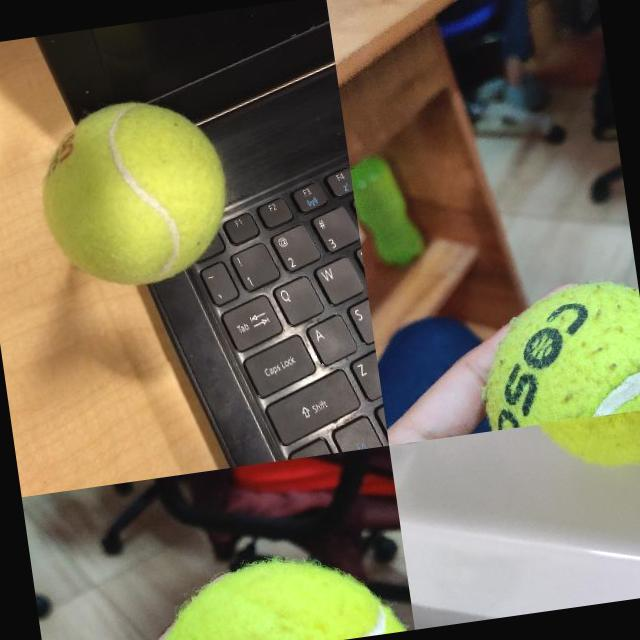tennis-ball: (28, 88, 240, 300), (468, 274, 640, 430), (136, 544, 413, 640)
